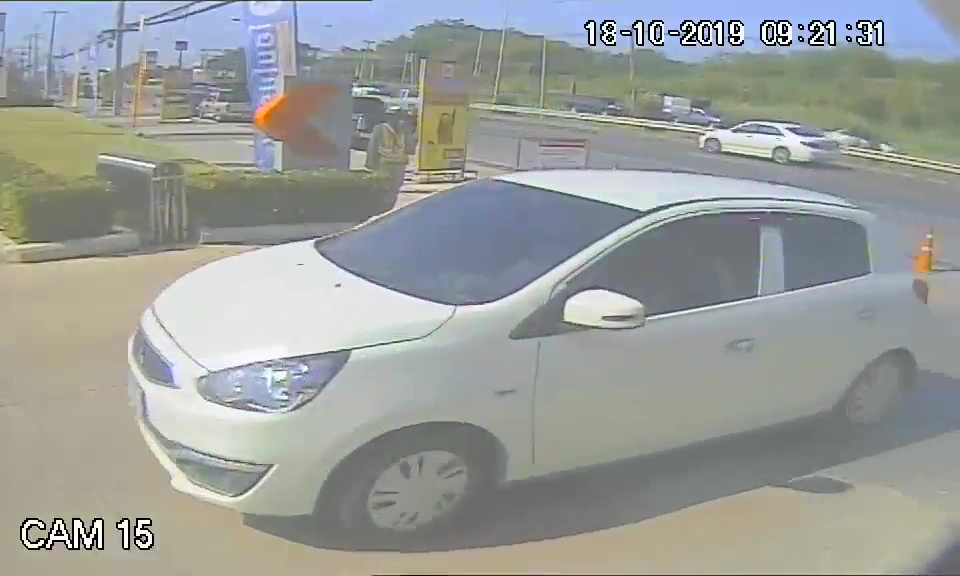sedan: (112, 165, 932, 525)
